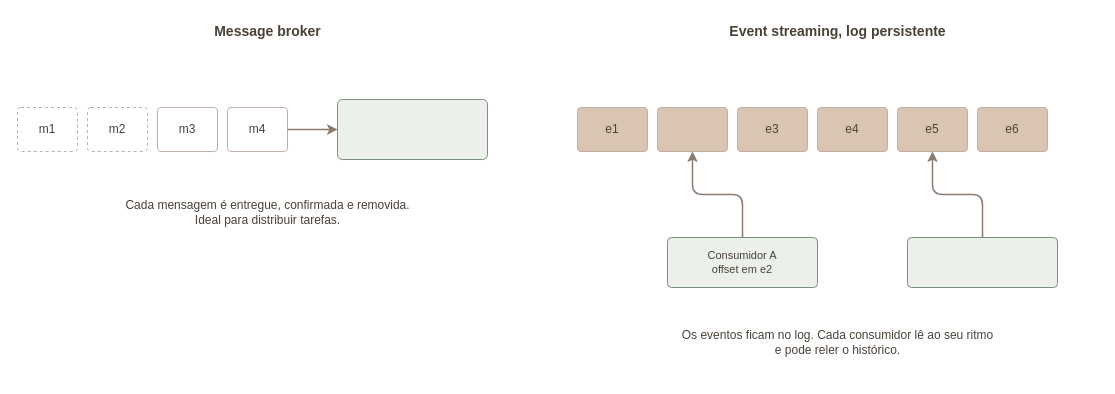
Image size: 1115x394. Some labels were removed from this diagram. The shapes that lost their labels are listed below. From the top down, each one's centre as x and y in pixels, then its label:
point (412, 129): Consumidor
point (692, 129): e2
point (982, 262): Consumidor B offset em e5
